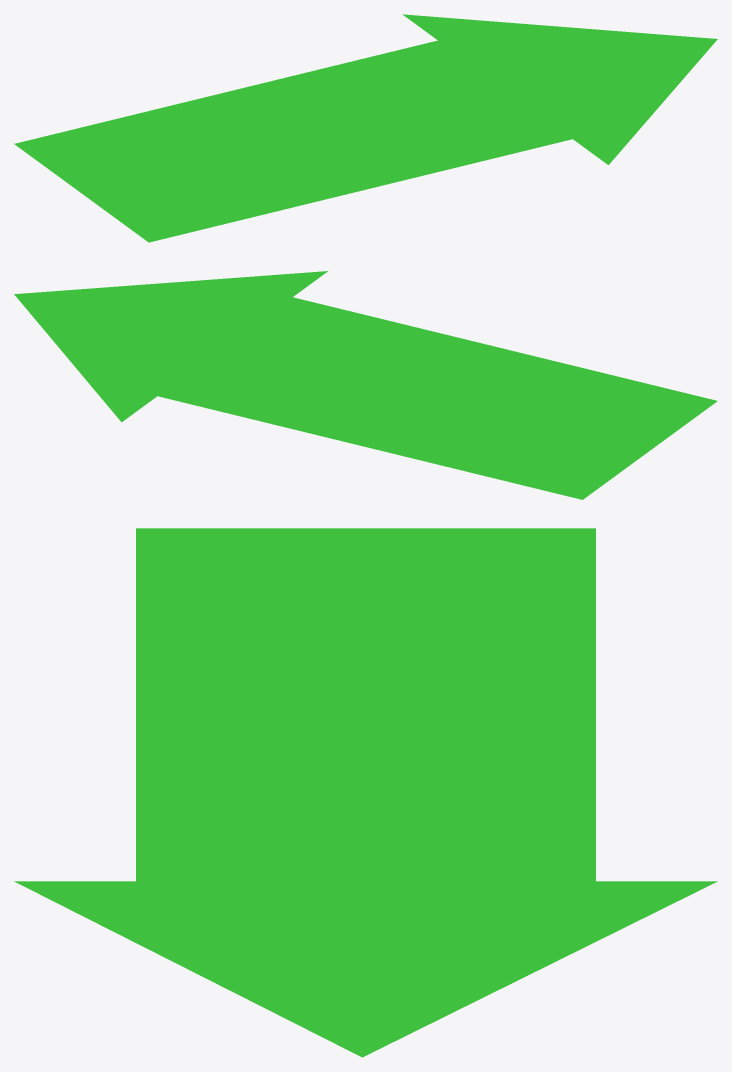
The model's file is Arrow.glb.
3 views of the same model, one above another, from view 1: azimuth 30°, elevation 25°; view 2: azimuth 150°, elevation 25°; view 3: azimuth 270°, elevation 25° (orthographic). The views are drawn at different scales.
Parts seen in each view (by area): view 1: Plane; view 2: Plane; view 3: Plane.
Part boxes in pixels (x1,y1,x2,y2): Plane: (14, 14, 717, 242); Plane: (14, 271, 717, 499); Plane: (14, 528, 717, 1057).
Size of the model in its own units: 5.44 by 0 by 3.06.
